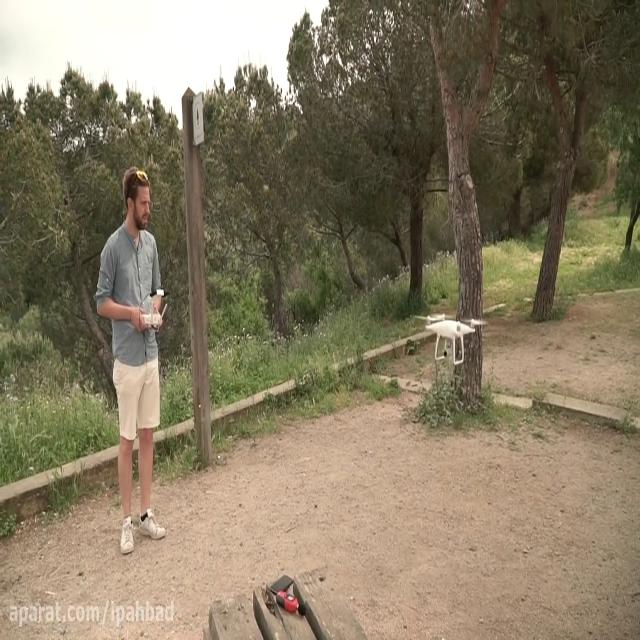drone: (414, 312, 488, 365)
